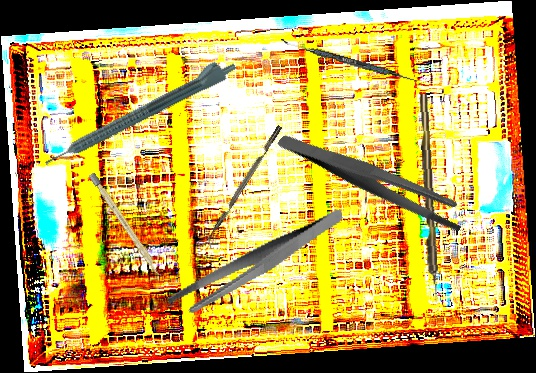Chopper: (201, 125, 289, 249)
Dressing Forceps: (276, 91, 472, 268), (156, 208, 357, 318)
Handpiece: (38, 51, 239, 171)
Hook Surgical: (418, 93, 440, 303)
Scalpel Handle: (88, 172, 164, 279)
Spatula Surgical: (279, 38, 419, 84)
